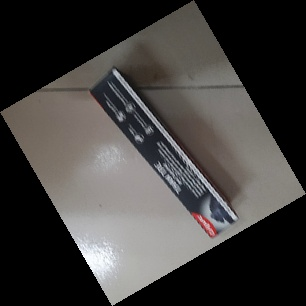Colgate Than: (87, 66, 238, 240)
